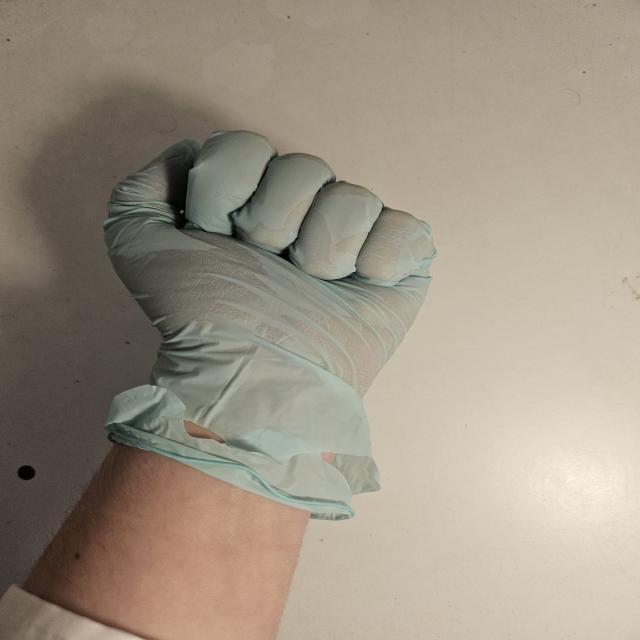gloves_damaged: (100, 126, 438, 519)
